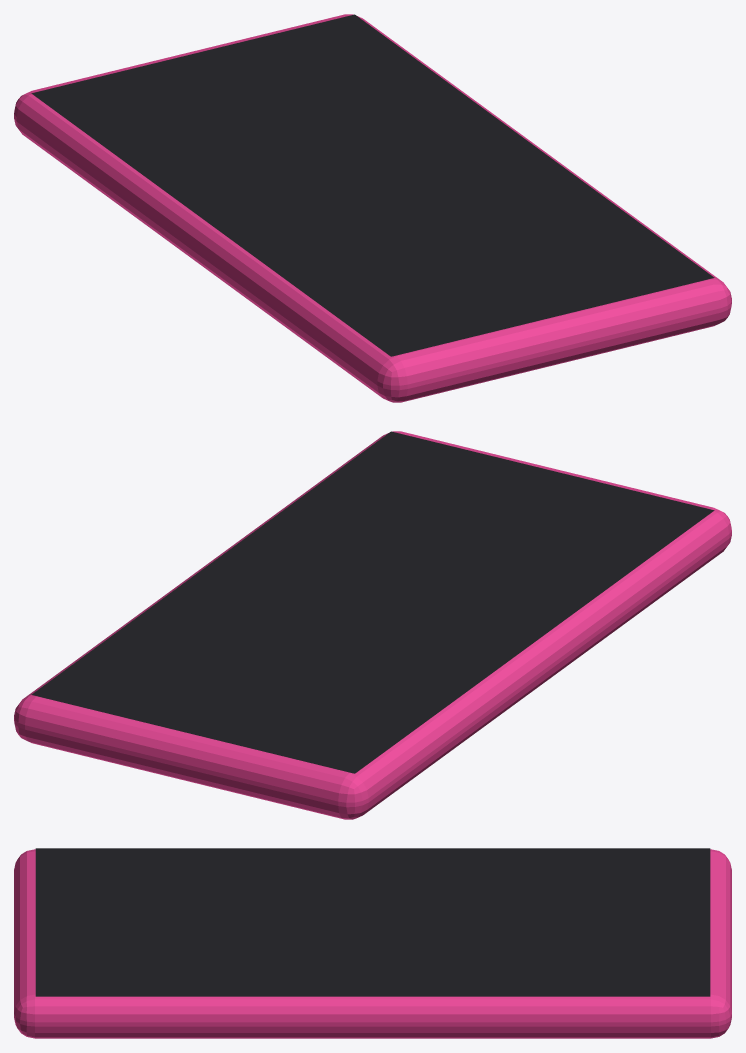
The model's file is Phone_941.glb.
3 views of the same model, one above another, from view 1: azimuth 30°, elevation 25°; view 2: azimuth 150°, elevation 25°; view 3: azimuth 270°, elevation 25° (orthographic). The views are drawn at different scales.
Parts seen in each view (by area): view 1: Phone_Screen, Phone_Body; view 2: Phone_Screen, Phone_Body; view 3: Phone_Screen, Phone_Body.
Boxes of the visible parts, <box> form: Phone_Screen: <box>31,14,714,356</box>; Phone_Body: <box>14,14,731,402</box>; Phone_Screen: <box>31,431,714,773</box>; Phone_Body: <box>14,431,731,819</box>; Phone_Screen: <box>35,848,710,996</box>; Phone_Body: <box>14,849,731,1038</box>.
Size of the model in its own units: 0.0773 by 0.0095 by 0.1457.
